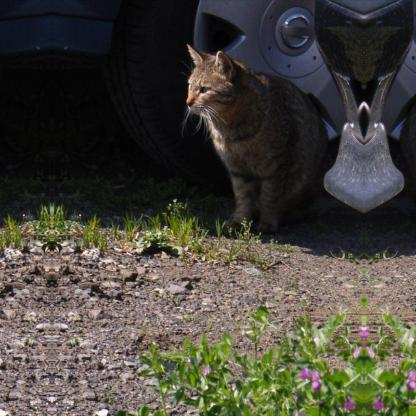Cat: (179, 43, 329, 232)
